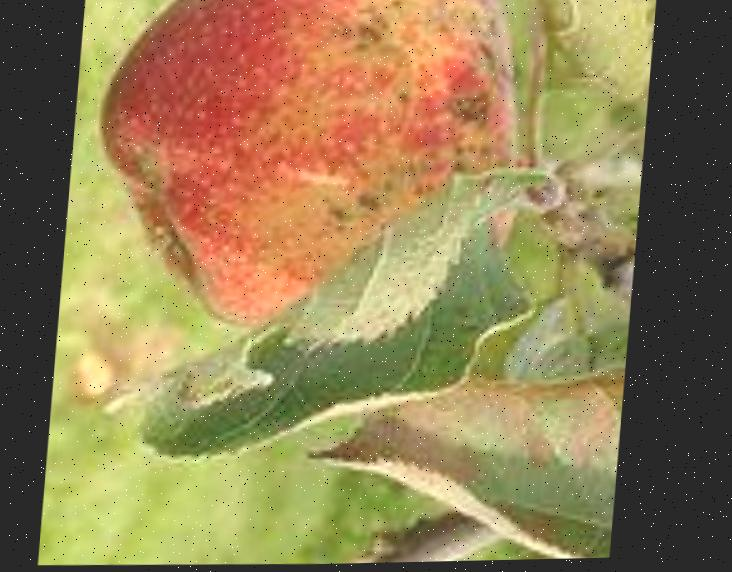SCAB: (95, 0, 583, 339)
